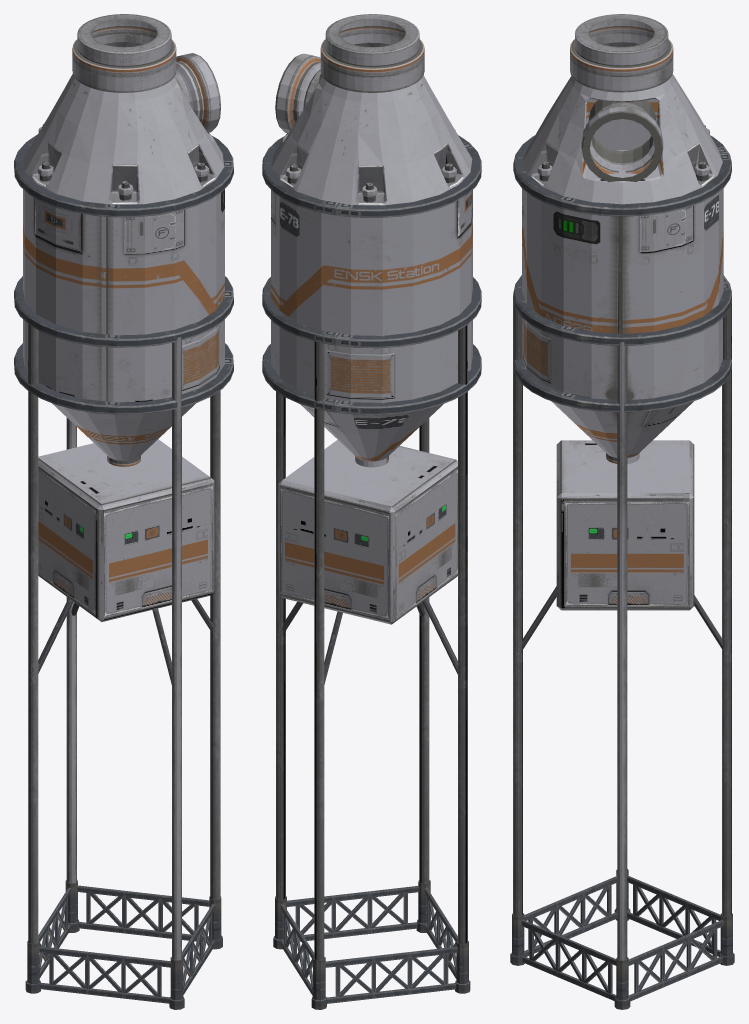
The model's file is 重力除尘器.obj.
3 views of the same model, side by side, from view 1: azimuth 30°, elevation 25°; view 2: azimuth 150°, elevation 25°; view 3: azimuth 270°, elevation 25° (orthographic).
Visible parts, largest first — view 1: Cylinder060, ChamferBox007, Object006, Cylinder047, Cylinder045, Cylinder046, Cylinder106, Cylinder072, Cylinder105, Cylinder044, Line009, Box438 (+7 smaller); view 2: Cylinder060, ChamferBox007, Object006, Cylinder044, Cylinder047, Cylinder046, Cylinder106, Cylinder072, Cylinder105, Cylinder045, Line009, Box417 (+7 smaller); view 3: Cylinder060, ChamferBox007, Object006, Cylinder046, Cylinder045, Cylinder044, Line009, Cylinder106, Cylinder072, Cylinder105, Box429, Box286 (+7 smaller).
Part boxes in pixels (left/top/right/bottom): Cylinder060: left=23, top=42, right=224, bottom=466; ChamferBox007: left=38, top=439, right=214, bottom=622; Object006: left=72, top=14, right=176, bottom=92; Cylinder047: left=28, top=324, right=38, bottom=943; Cylinder045: left=172, top=337, right=181, bottom=960; Cylinder046: left=210, top=390, right=220, bottom=899; Cylinder106: left=14, top=134, right=233, bottom=217; Cylinder072: left=14, top=276, right=233, bottom=347; Cylinder105: left=14, top=343, right=233, bottom=414; Cylinder044: left=66, top=417, right=76, bottom=883; Line009: left=176, top=53, right=220, bottom=132; Box438: left=38, top=946, right=170, bottom=967; Cylinder060: left=271, top=42, right=472, bottom=467; ChamferBox007: left=278, top=439, right=457, bottom=624; Object006: left=320, top=14, right=424, bottom=92; Cylinder044: left=314, top=341, right=324, bottom=960; Cylinder047: left=458, top=325, right=467, bottom=944; Cylinder046: left=276, top=391, right=285, bottom=899; Cylinder106: left=262, top=135, right=481, bottom=217; Cylinder072: left=262, top=277, right=481, bottom=348; Cylinder105: left=262, top=344, right=481, bottom=415; Cylinder045: left=419, top=418, right=429, bottom=883; Line009: left=275, top=53, right=320, bottom=133; Box417: left=325, top=946, right=457, bottom=967; Cylinder060: left=522, top=42, right=723, bottom=463; ChamferBox007: left=556, top=440, right=694, bottom=610; Object006: left=570, top=14, right=673, bottom=92; Cylinder046: left=617, top=341, right=627, bottom=960; Cylinder045: left=513, top=295, right=522, bottom=916; Cylinder044: left=722, top=301, right=731, bottom=916; Line009: left=581, top=100, right=663, bottom=181; Cylinder106: left=513, top=135, right=731, bottom=216; Cylinder072: left=513, top=275, right=731, bottom=345; Cylinder105: left=513, top=359, right=731, bottom=412; Box429: left=628, top=920, right=723, bottom=965; Box286: left=521, top=920, right=616, bottom=965.
Size of the model in its own units: 7 by 31.96 by 7.
